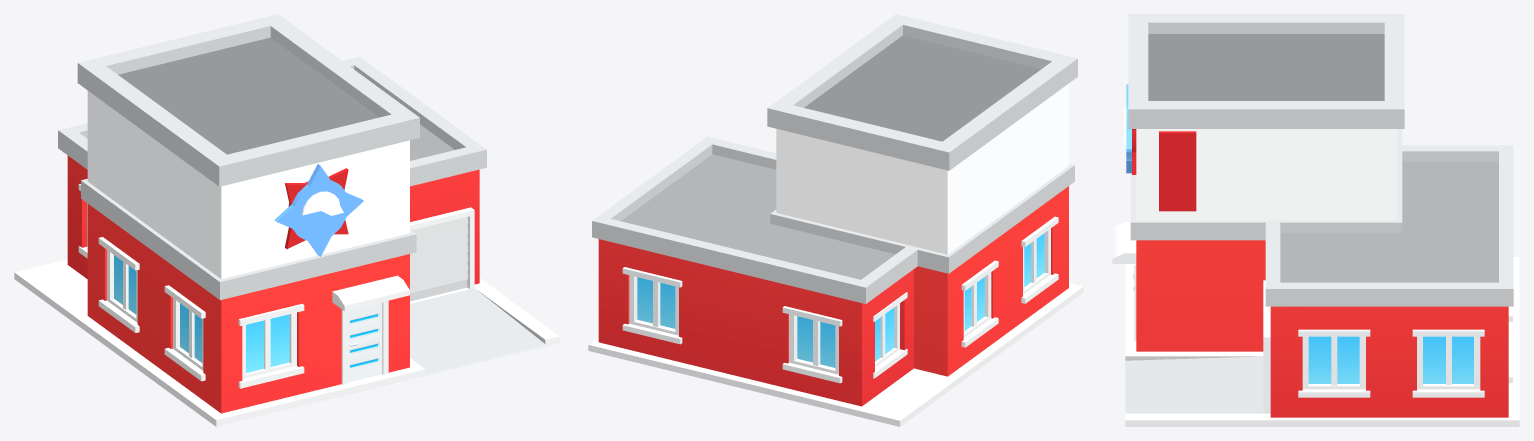
File: Building_Institution_06.glb
3 renders of one model, left to right at view 1: azimuth 30°, elevation 25°; view 2: azimuth 150°, elevation 25°; view 3: azimuth 270°, elevation 25°, orthographic. The views are drawn at different scales.
Visible parts, largest first — view 1: Building_Institution_06; view 2: Building_Institution_06; view 3: Building_Institution_06.
Boxes of the visible parts, x1,y1,x2,y2 form: Building_Institution_06: [14, 14, 559, 426]; Building_Institution_06: [588, 14, 1083, 426]; Building_Institution_06: [1112, 14, 1519, 426].
Bounding box in the file's own units: 10.64 × 7.64 × 11.2.
1 material, 1 textured.
